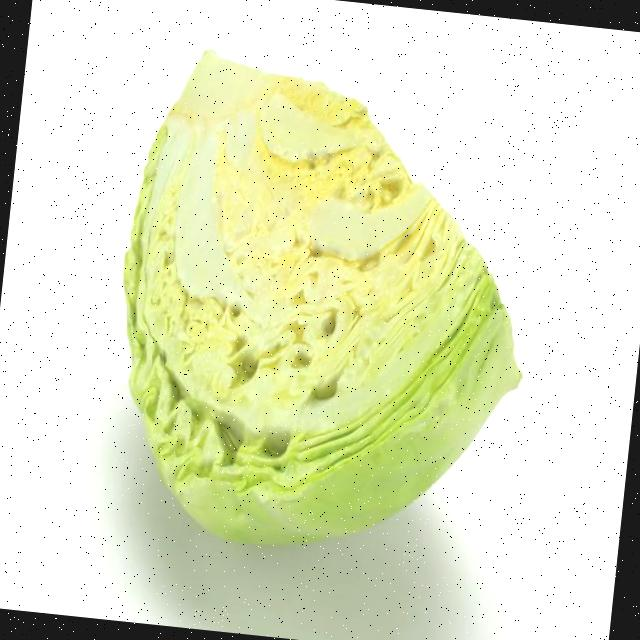cabbage: (93, 38, 558, 576)
